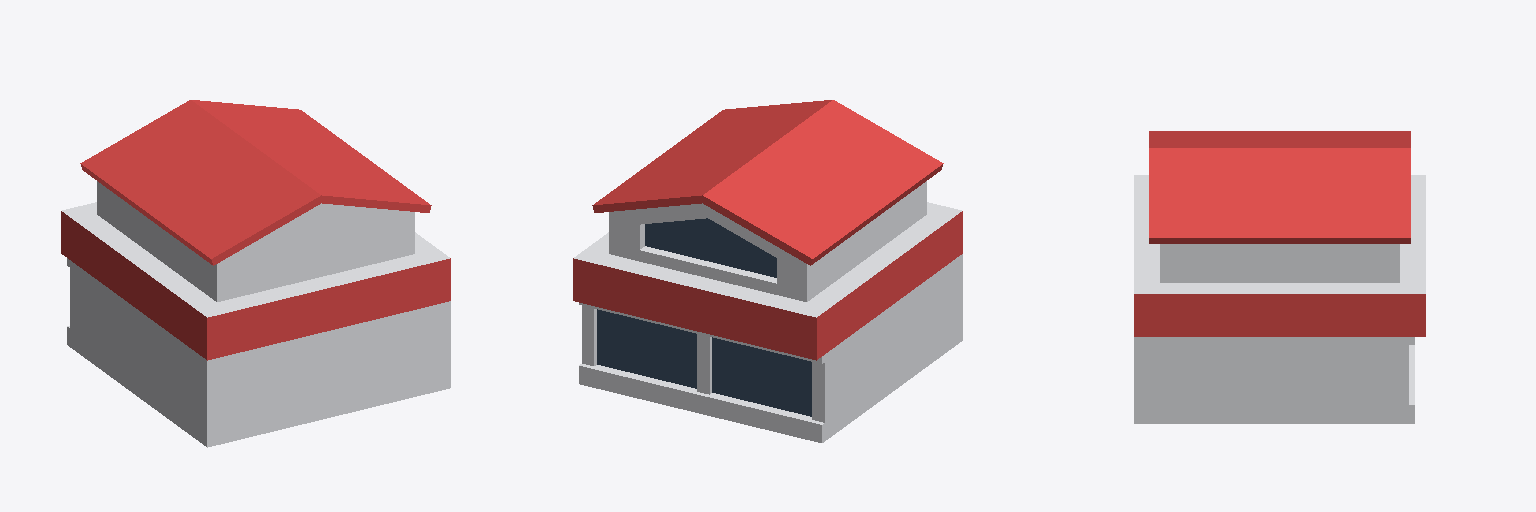
File: pitsOfficeRoof.obj
3 views of the same model, side by side, from view 1: azimuth 30°, elevation 25°; view 2: azimuth 150°, elevation 25°; view 3: azimuth 270°, elevation 25° (orthographic).
Parts seen in each view (by area): view 1: pitsOfficeRoof; view 2: pitsOfficeRoof; view 3: pitsOfficeRoof.
Part boxes in pixels (x1,y1,x2,y2): pitsOfficeRoof: (61,100,450,447); pitsOfficeRoof: (573,100,962,442); pitsOfficeRoof: (1134,131,1425,423).
Size of the model in its own units: 1 by 0.8515 by 1.04.